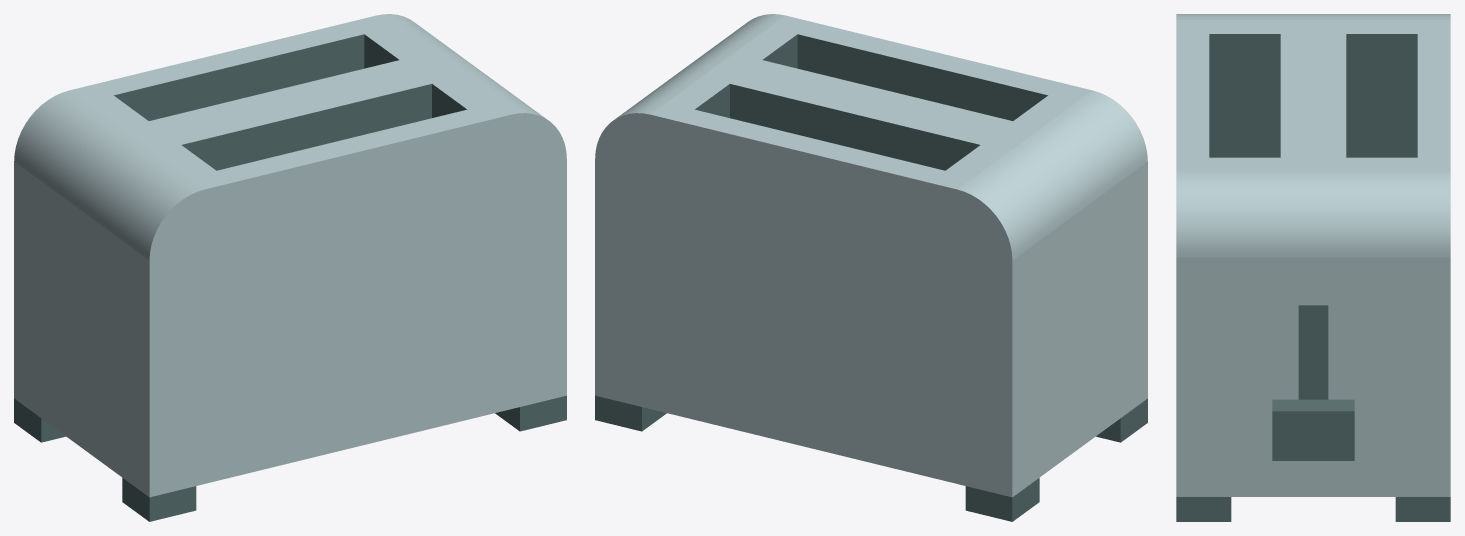
Rendered from toaster.obj.
3 views of the same model, side by side, from view 1: azimuth 30°, elevation 25°; view 2: azimuth 150°, elevation 25°; view 3: azimuth 270°, elevation 25° (orthographic).
Parts seen in each view (by area): view 1: toaster; view 2: toaster; view 3: toaster.
Part boxes in pixels (x1,y1,x2,y2): toaster: (14,14,566,521); toaster: (595,14,1147,521); toaster: (1176,14,1450,521).
Size of the model in its own units: 0.188 by 0.13 by 0.1.
